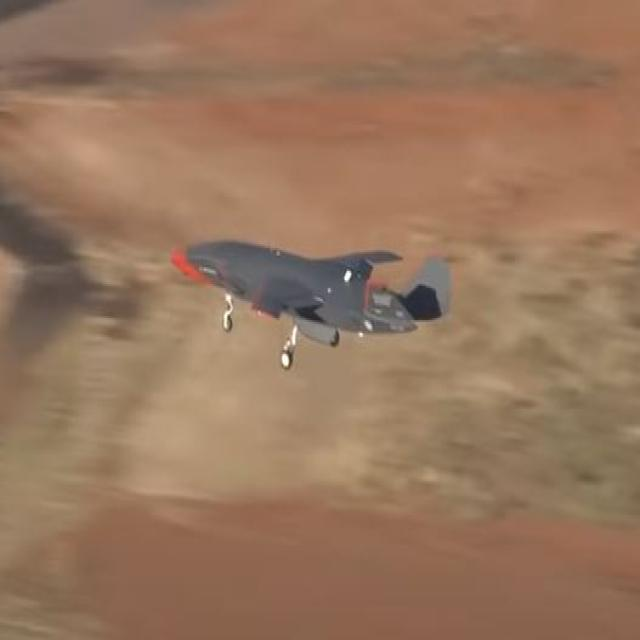iha: (170, 240, 453, 373)
